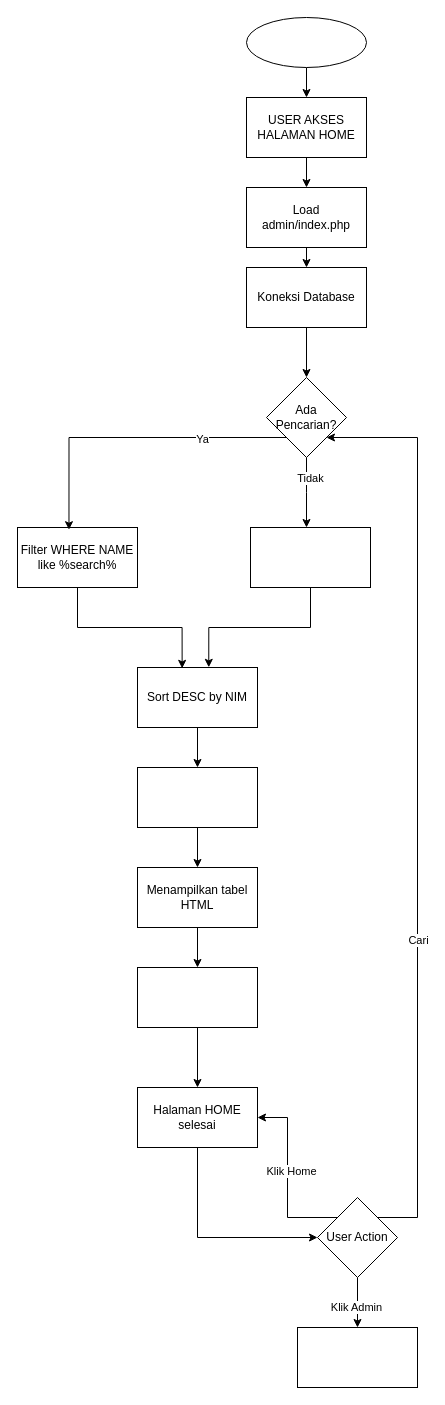
The diagram is 445 pixels wide and 1405 high, and some of its shapes have lost their labels. The centre of each missing label's shape, as x and y in pixels:
"Ambil Semua Data" belongs at [310,557].
"Hitung statistik: - Total - Laki - laki - Perempuan" belongs at [197,797].
"Redirect ke admin/index.php" belongs at [357,1357].
"Start" belongs at [306,42].
"Tampilkan : - Data Mahasiswa - Search Form -Statistic Card" belongs at [197,997].
